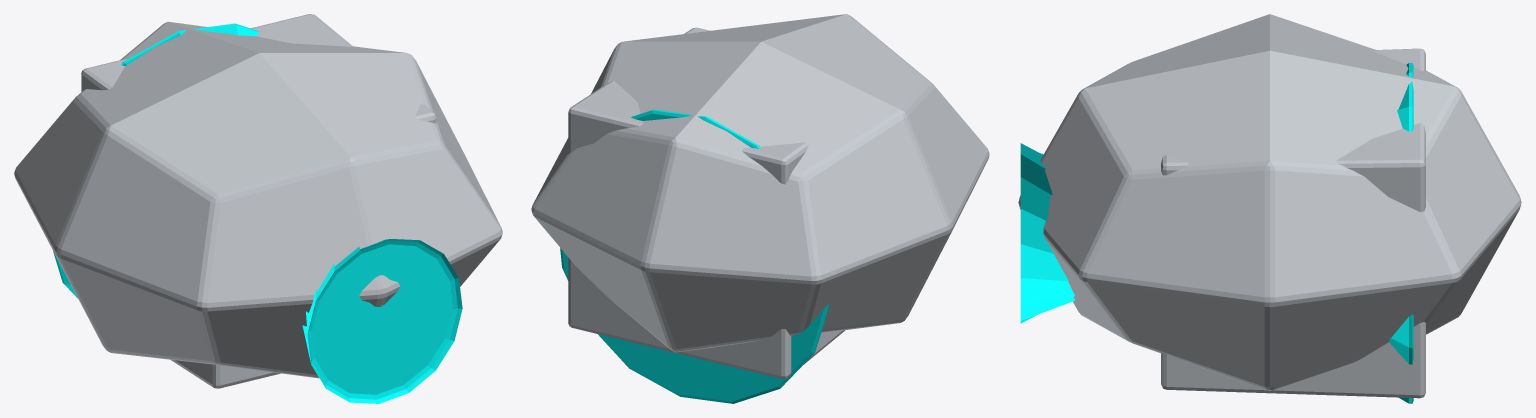
File: Engines_05.glb
3 views of the same model, side by side, from view 1: azimuth 30°, elevation 25°; view 2: azimuth 150°, elevation 25°; view 3: azimuth 270°, elevation 25° (orthographic). The views are drawn at different scales.
Parts seen in each view (by area): view 1: Engines_05_gltf_export_temp; view 2: Engines_05_gltf_export_temp; view 3: Engines_05_gltf_export_temp.
Part boxes in pixels (box(x1,y1,x2,y2)): Engines_05_gltf_export_temp: box(14, 14, 502, 403); Engines_05_gltf_export_temp: box(531, 14, 989, 403); Engines_05_gltf_export_temp: box(1018, 14, 1521, 403).
Size of the model in its own units: 1 by 0.7831 by 1.06.
